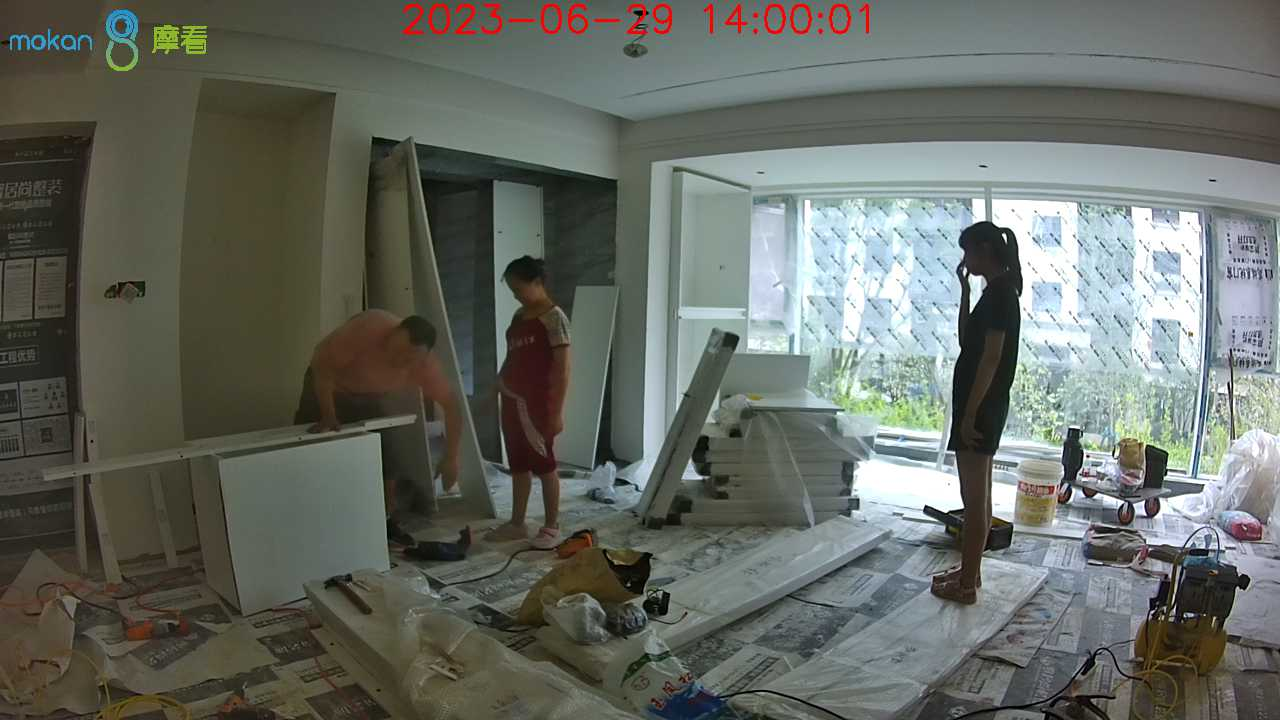people: (939, 223, 1022, 602), (302, 307, 461, 494), (498, 257, 574, 551)
window: (758, 192, 1280, 485)
